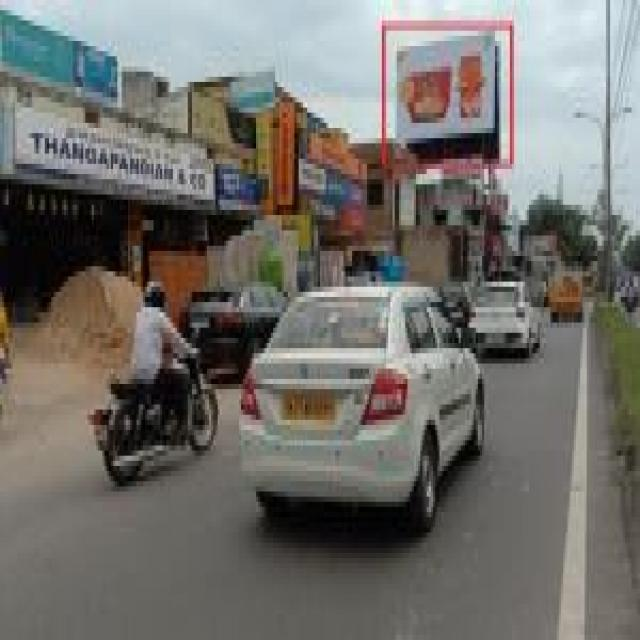Werbetafel frei: (395, 39, 506, 154)
